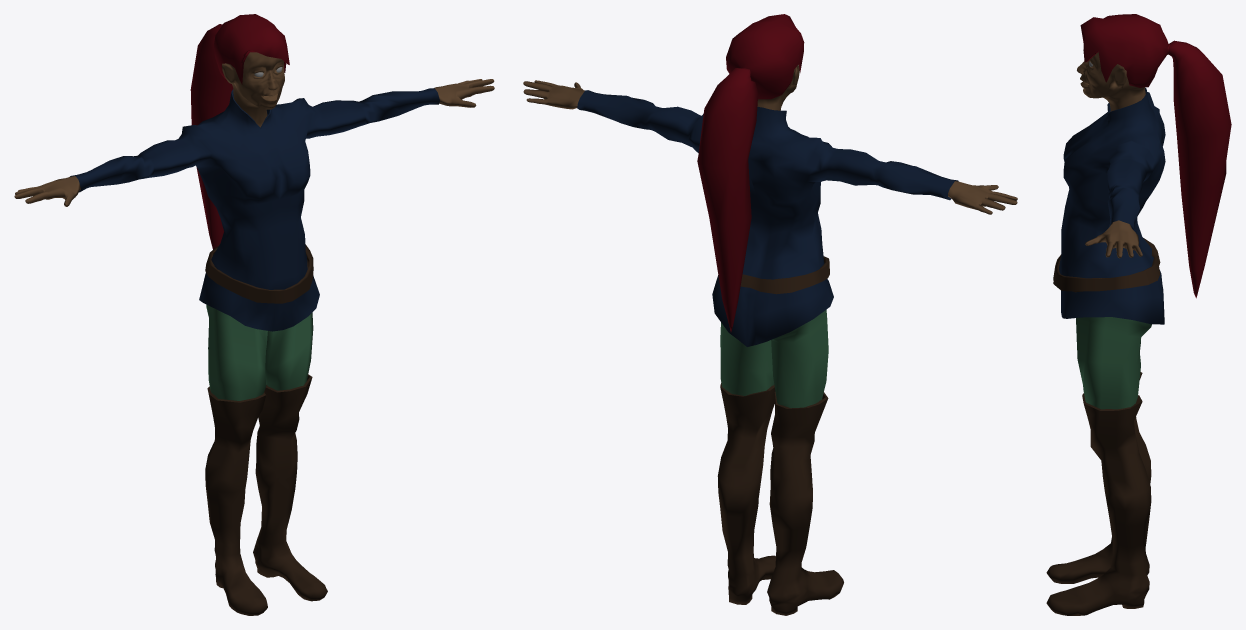
The model's file is mint_2.obj.
3 renders of one model, left to right at view 1: azimuth 30°, elevation 25°; view 2: azimuth 150°, elevation 25°; view 3: azimuth 270°, elevation 25°, orthographic. The views are drawn at different scales.
Parts seen in each view (by area): view 1: base_mesh__1_:GenericMesh1 polySurface3 polySurface2, polySurface1 base_mesh__1_:GenericMesh1 polySurface6, polySurface7 polySurface5 polySurface1 base_mesh__1_:GenericMesh, group1 pPlane2, polySurface10 group1, polySurface5 polySurface1 base_mesh__1_:GenericMesh1 polySurface, base_mesh__1_:GenericMesh1 polySurface2 polySurface4; view 2: base_mesh__1_:GenericMesh1 polySurface3 polySurface2, polySurface1 base_mesh__1_:GenericMesh1 polySurface6, group1 pPlane2, polySurface7 polySurface5 polySurface1 base_mesh__1_:GenericMesh, polySurface5 polySurface1 base_mesh__1_:GenericMesh1 polySurface, base_mesh__1_:GenericMesh1 polySurface2 polySurface4; view 3: base_mesh__1_:GenericMesh1 polySurface3 polySurface2, group1 pPlane2, polySurface1 base_mesh__1_:GenericMesh1 polySurface6, polySurface7 polySurface5 polySurface1 base_mesh__1_:GenericMesh, polySurface10 group1, base_mesh__1_:GenericMesh1 polySurface2 polySurface4, polySurface5 polySurface1 base_mesh__1_:GenericMesh1 polySurface.
Boxes of the visible parts, <box> form: base_mesh__1_:GenericMesh1 polySurface3 polySurface2: <box>70,88,440,331</box>; polySurface1 base_mesh__1_:GenericMesh1 polySurface6: <box>205,374,327,615</box>; polySurface7 polySurface5 polySurface1 base_mesh__1_:GenericMesh: <box>206,304,313,400</box>; group1 pPlane2: <box>190,14,289,249</box>; polySurface10 group1: <box>222,52,284,127</box>; polySurface5 polySurface1 base_mesh__1_:GenericMesh1 polySurface: <box>14,79,494,206</box>; base_mesh__1_:GenericMesh1 polySurface2 polySurface4: <box>205,244,313,303</box>; base_mesh__1_:GenericMesh1 polySurface3 polySurface2: <box>577,90,958,346</box>; polySurface1 base_mesh__1_:GenericMesh1 polySurface6: <box>717,383,843,615</box>; group1 pPlane2: <box>697,14,804,331</box>; polySurface7 polySurface5 polySurface1 base_mesh__1_:GenericMesh: <box>720,309,828,408</box>; polySurface5 polySurface1 base_mesh__1_:GenericMesh1 polySurface: <box>523,80,1017,214</box>; base_mesh__1_:GenericMesh1 polySurface2 polySurface4: <box>740,256,829,294</box>; base_mesh__1_:GenericMesh1 polySurface3 polySurface2: <box>1059,87,1165,324</box>; group1 pPlane2: <box>1080,14,1231,298</box>; polySurface1 base_mesh__1_:GenericMesh1 polySurface6: <box>1046,372,1151,615</box>; polySurface7 polySurface5 polySurface1 base_mesh__1_:GenericMesh: <box>1076,317,1151,409</box>; polySurface10 group1: <box>1077,52,1145,111</box>; base_mesh__1_:GenericMesh1 polySurface2 polySurface4: <box>1053,238,1160,292</box>; polySurface5 polySurface1 base_mesh__1_:GenericMesh1 polySurface: <box>1085,220,1142,258</box>.
Size of the model in its own units: 34.01 by 38.12 by 11.08.
